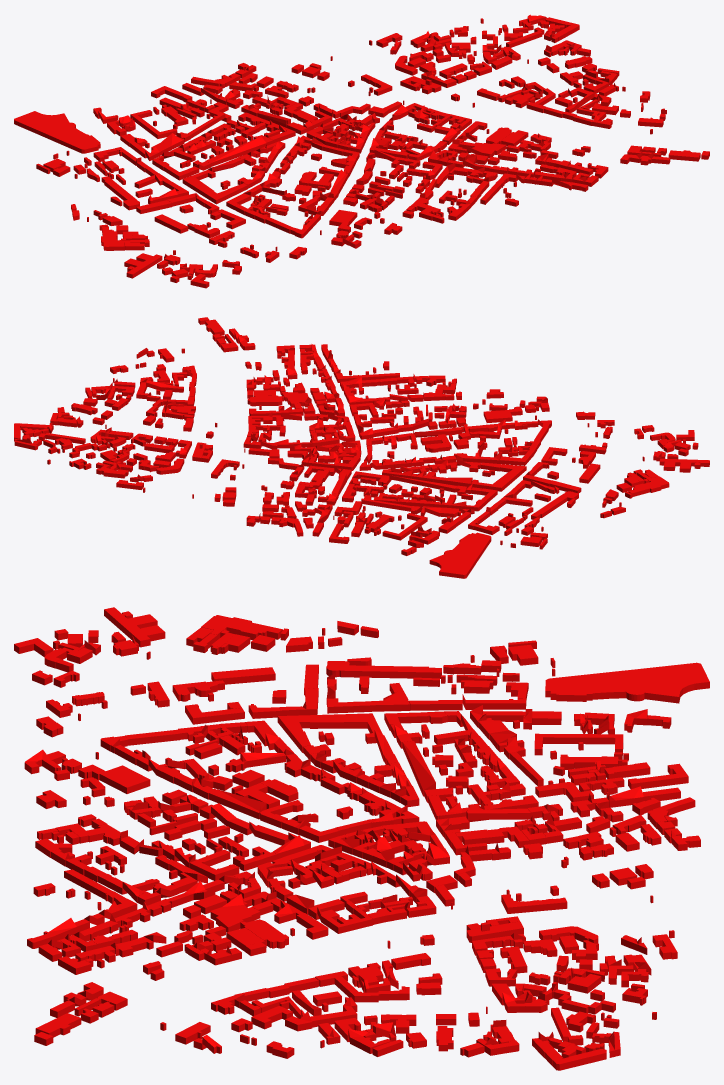
Rendered from Buildings.fbx.
The picture shows the model from 3 angles, top to bottom: view 1: azimuth 30°, elevation 25°; view 2: azimuth 150°, elevation 25°; view 3: azimuth 270°, elevation 25°; orthographic projection. The views are drawn at different scales.
Visible parts, largest first — view 1: Polyhedron_2, Polyhedron_485, Polyhedron_635, Polyhedron_427, Polyhedron_0, Polyhedron_3, Polyhedron_415, Polyhedron_248; view 2: Polyhedron_2, Polyhedron_485, Polyhedron_427, Polyhedron_415, Polyhedron_0, Polyhedron_6, Polyhedron_3; view 3: Polyhedron_2, Polyhedron_485, Polyhedron_0, Polyhedron_427, Polyhedron_6, Polyhedron_248, Polyhedron_415, Polyhedron_3, Polyhedron_329, Polyhedron_341, Polyhedron_60, Polyhedron_160 (+14 smaller).
Part boxes in pixels (bbox=[...]): Polyhedron_2: bbox=[14, 111, 100, 153]; Polyhedron_485: bbox=[182, 169, 247, 204]; Polyhedron_635: bbox=[205, 136, 266, 166]; Polyhedron_427: bbox=[124, 253, 162, 278]; Polyhedron_0: bbox=[101, 176, 139, 210]; Polyhedron_3: bbox=[130, 110, 177, 138]; Polyhedron_415: bbox=[101, 226, 130, 250]; Polyhedron_248: bbox=[526, 82, 555, 112]; Polyhedron_2: bbox=[429, 532, 491, 578]; Polyhedron_485: bbox=[471, 462, 526, 491]; Polyhedron_427: bbox=[659, 458, 709, 472]; Polyhedron_415: bbox=[628, 476, 669, 496]; Polyhedron_0: bbox=[531, 491, 578, 519]; Polyhedron_6: bbox=[483, 406, 522, 422]; Polyhedron_3: bbox=[382, 513, 427, 540]; Polyhedron_2: bbox=[545, 662, 709, 703]; Polyhedron_485: bbox=[277, 713, 382, 752]; Polyhedron_0: bbox=[326, 661, 441, 678]; Polyhedron_427: bbox=[104, 607, 165, 647]; Polyhedron_6: bbox=[78, 764, 150, 793]; Polyhedron_248: bbox=[315, 971, 409, 1002]; Polyhedron_415: bbox=[201, 615, 282, 640]; Polyhedron_3: bbox=[534, 733, 623, 755]; Polyhedron_329: bbox=[532, 1038, 606, 1070]; Polyhedron_341: bbox=[210, 894, 260, 932]; Polyhedron_60: bbox=[455, 826, 529, 847]; Polyhedron_160: bbox=[317, 907, 372, 933].
Bounding box in the file's own units: 150949 × 2984 × 97145.
